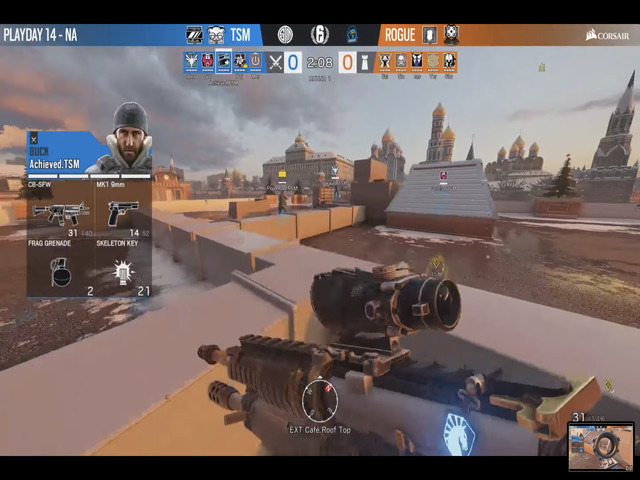0_blue: (283, 49, 302, 75)
